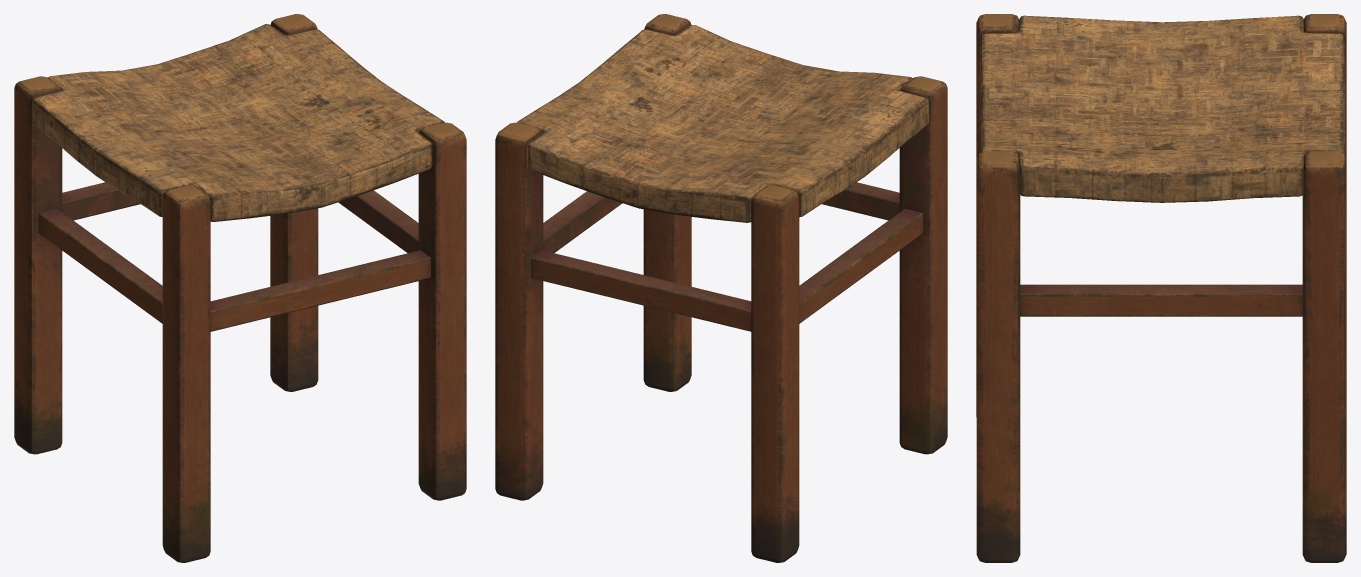
3 views of the same model, side by side, from view 1: azimuth 30°, elevation 25°; view 2: azimuth 150°, elevation 25°; view 3: azimuth 270°, elevation 25° (orthographic). The views are drawn at different scales.
Visible parts, largest first — view 1: top_low, leg3_low, leg2_low, leg1_low, leg4_low, support1_low, support4_low, support2_low, support3_low; view 2: top_low, leg1_low, leg4_low, leg3_low, leg2_low, support3_low, support4_low, support2_low, support1_low; view 3: top_low, leg2_low, leg4_low, support2_low, leg3_low, leg1_low.
Part boxes in pixels (x1=…): top_low: x1=32, y1=24, x2=444, y2=221; leg3_low: x1=162, y1=185, x2=210, y2=562; leg2_low: x1=418, y1=122, x2=466, y2=500; leg1_low: x1=14, y1=76, x2=62, y2=454; leg4_low: x1=270, y1=14, x2=318, y2=391; support1_low: x1=210, y1=250, x2=430, y2=331; support4_low: x1=38, y1=208, x2=162, y2=323; support2_low: x1=338, y1=190, x2=418, y2=252; support3_low: x1=62, y1=182, x2=140, y2=220; top_low: x1=517, y1=25, x2=928, y2=222; leg1_low: x1=751, y1=185, x2=799, y2=562; leg4_low: x1=495, y1=122, x2=543, y2=500; leg3_low: x1=899, y1=76, x2=947, y2=454; leg2_low: x1=643, y1=14, x2=691, y2=391; support3_low: x1=531, y1=250, x2=751, y2=331; support4_low: x1=799, y1=208, x2=923, y2=323; support2_low: x1=543, y1=191, x2=622, y2=252; support1_low: x1=822, y1=182, x2=899, y2=220; top_low: x1=980, y1=15, x2=1344, y2=202; leg2_low: x1=976, y1=151, x2=1020, y2=562; leg4_low: x1=1302, y1=151, x2=1346, y2=562; support2_low: x1=1020, y1=284, x2=1302, y2=316; leg3_low: x1=976, y1=14, x2=1019, y2=416; leg1_low: x1=1303, y1=14, x2=1346, y2=159.
Bounding box in the file's own units: 36.75 × 44.08 × 36.93.
1 material, 1 textured.
